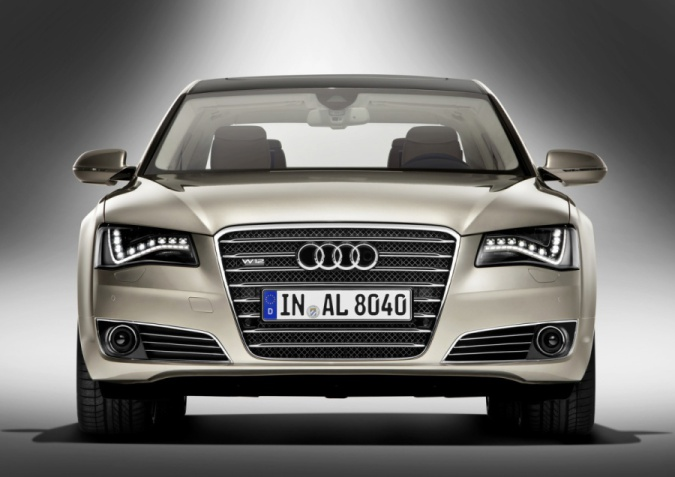audi: (287, 239, 382, 273)
